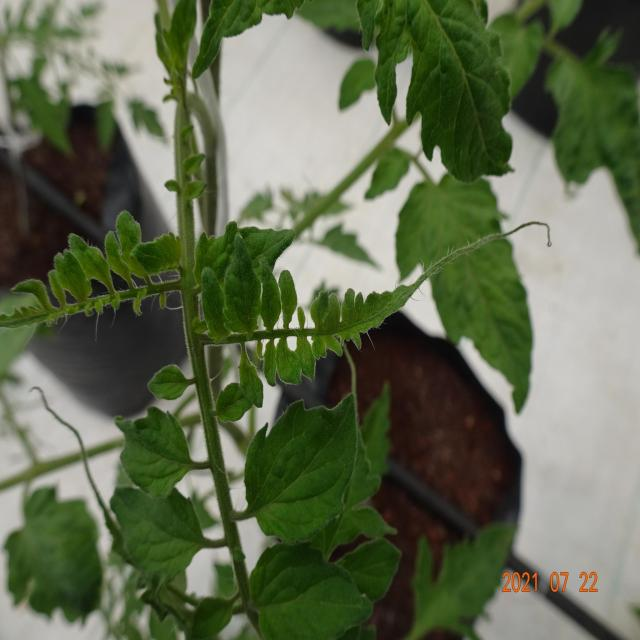T_L_H: (245, 395, 358, 545)
T_L_R: (376, 1, 512, 183)
